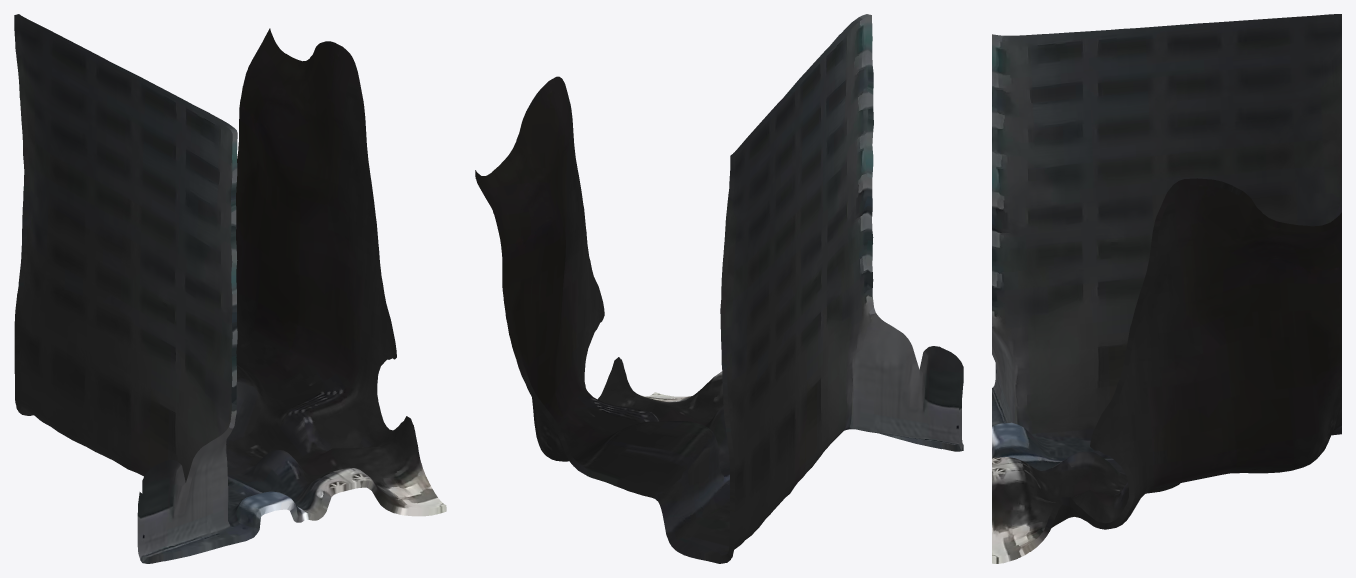
The model's file is z20-167768-405238-h0-yup-uvflip-v3-world.glb.
The picture shows the model from 3 angles, left to right: view 1: azimuth 30°, elevation 25°; view 2: azimuth 150°, elevation 25°; view 3: azimuth 270°, elevation 25°; orthographic projection. The views are drawn at different scales.
Size of the model in its own units: 30.2 by 40.76 by 30.32.
Materials: 1 (1 with a texture image).
